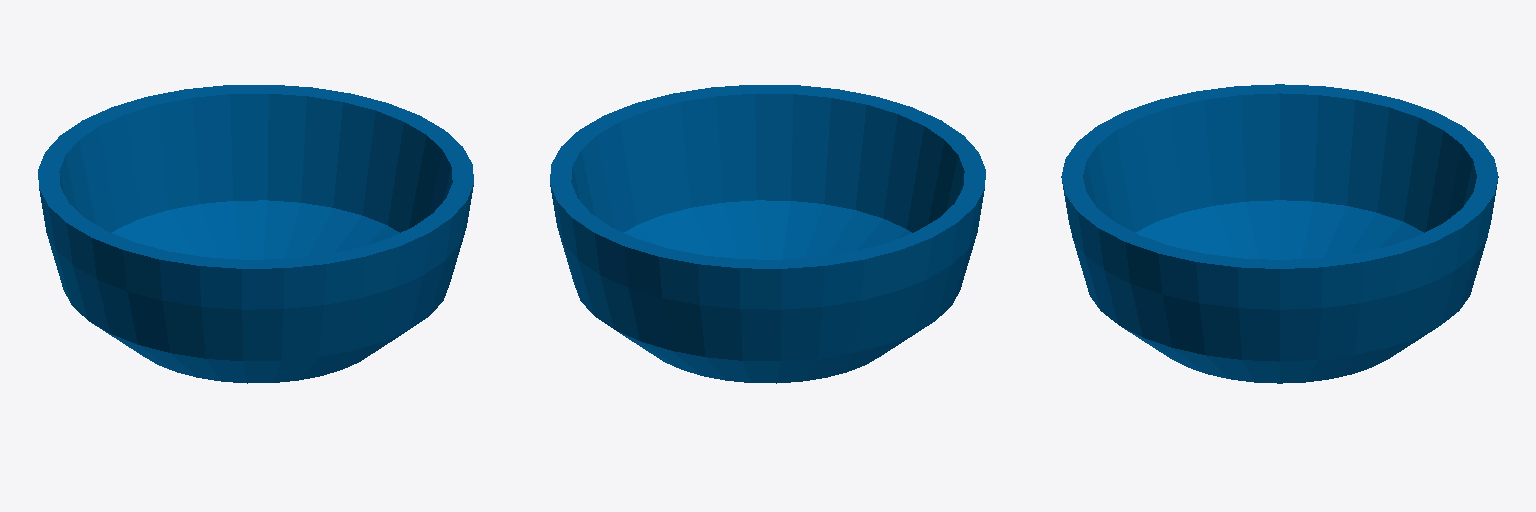
File: skleda.obj
3 renders of one model, left to right at view 1: azimuth 30°, elevation 25°; view 2: azimuth 150°, elevation 25°; view 3: azimuth 270°, elevation 25°, orthographic.
Parts seen in each view (by area): view 1: Cylinder; view 2: Cylinder; view 3: Cylinder.
Part boxes in pixels (left/top/right/bottom): Cylinder: left=38, top=85, right=473, bottom=383; Cylinder: left=550, top=85, right=985, bottom=383; Cylinder: left=1061, top=84, right=1498, bottom=383.
Size of the model in its own units: 3.34 by 1.34 by 3.34.